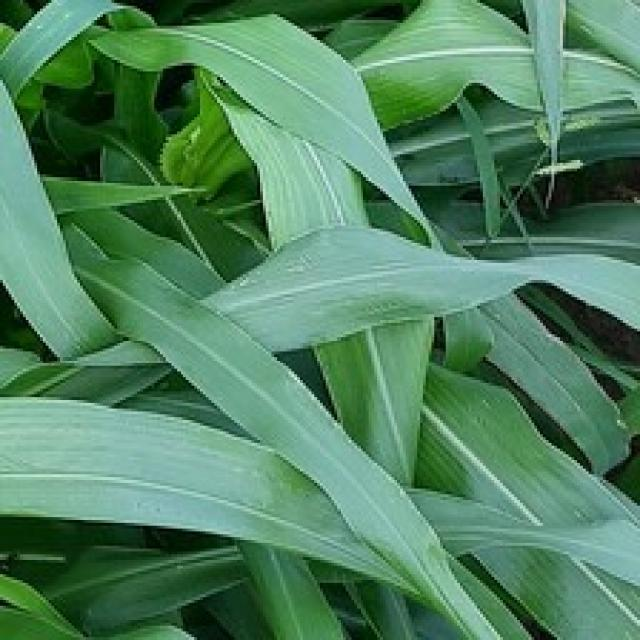Corn: (0, 0, 637, 637), (86, 8, 443, 252), (0, 0, 117, 360)
